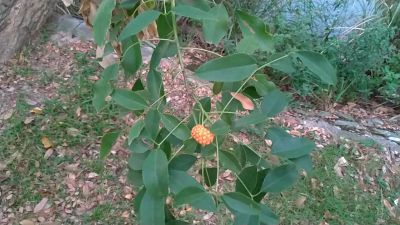eggs: (191, 123, 215, 146)
